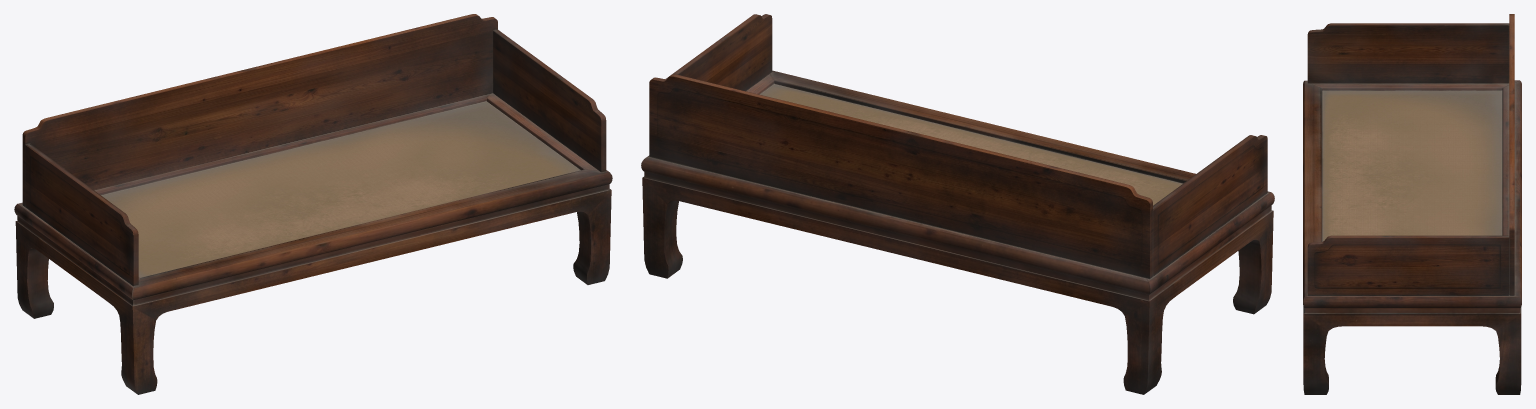
The model's file is chinese_sofa.glb.
3 renders of one model, left to right at view 1: azimuth 30°, elevation 25°; view 2: azimuth 150°, elevation 25°; view 3: azimuth 270°, elevation 25°, orthographic. The views are drawn at different scales.
Parts seen in each view (by area): view 1: chinese_sofa; view 2: chinese_sofa; view 3: chinese_sofa.
Part boxes in pixels (box(x1,y1,x2,y2)): chinese_sofa: box(14, 14, 612, 394); chinese_sofa: box(641, 14, 1274, 394); chinese_sofa: box(1303, 14, 1521, 394).
Bounding box in the file's own units: 2.29 × 0.86 × 0.9689.
Materials: 1 (1 with a texture image).
